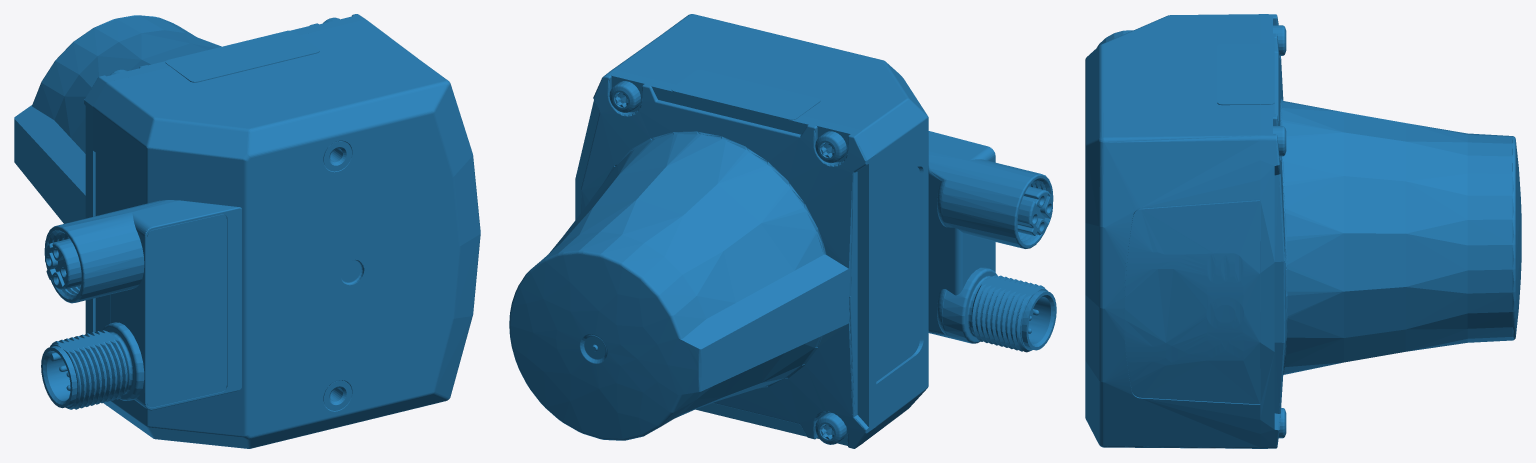
File: tim240.dae
The picture shows the model from 3 angles, left to right: view 1: azimuth 30°, elevation 25°; view 2: azimuth 150°, elevation 25°; view 3: azimuth 270°, elevation 25°; orthographic projection. The views are drawn at different scales.
Visible parts, largest first — view 1: node0; view 2: node0; view 3: node0.
Boxes of the visible parts, left/top/right/bottom form: node0: left=14, top=14, right=480, bottom=448; node0: left=509, top=14, right=1056, bottom=448; node0: left=1085, top=14, right=1521, bottom=448.
Size of the model in its own units: 0.0797 by 0.0758 by 0.0601.
